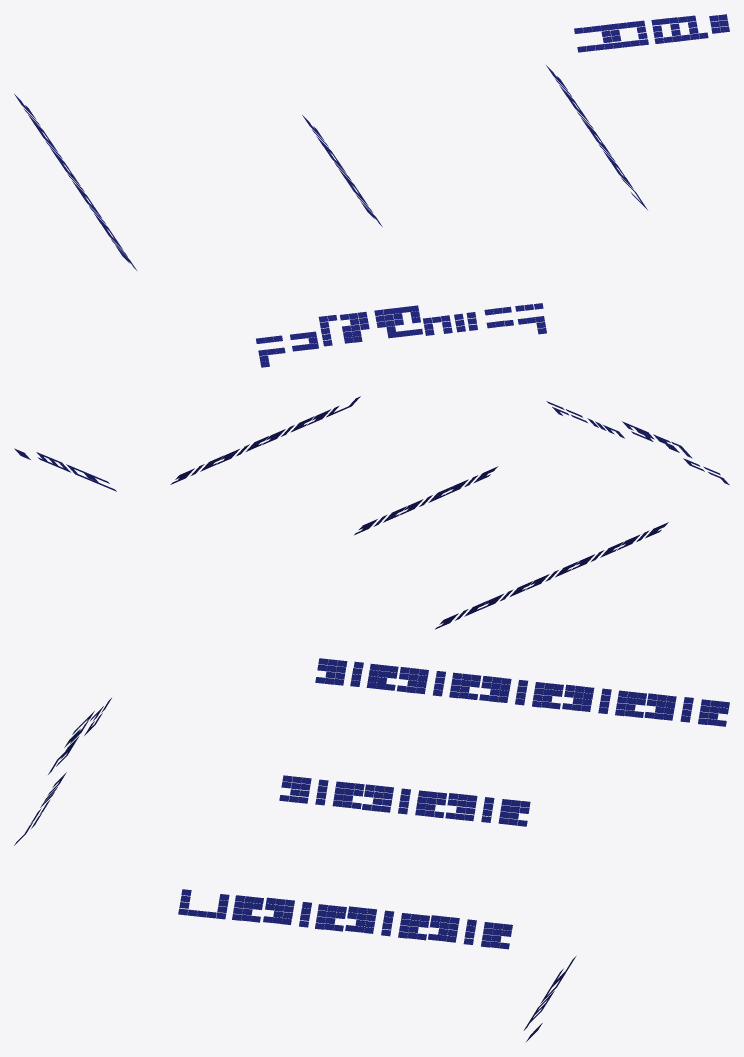
Rendered from pgc_n_pv_blauw.glb.
The picture shows the model from 3 angles, top to bottom: view 1: azimuth 30°, elevation 25°; view 2: azimuth 150°, elevation 25°; view 3: azimuth 270°, elevation 25°; orthographic projection. The views are drawn at different scales.
Visible parts, largest first — view 1: Zonnepanelen (Blauw); view 2: Zonnepanelen (Blauw); view 3: Zonnepanelen (Blauw).
Part boxes in pixels (<box>): Zonnepanelen (Blauw): <box>14,14,729,367</box>; Zonnepanelen (Blauw): <box>14,396,729,629</box>; Zonnepanelen (Blauw): <box>14,658,729,1041</box>.
Size of the model in its own units: 160 by 9.03 by 133.
